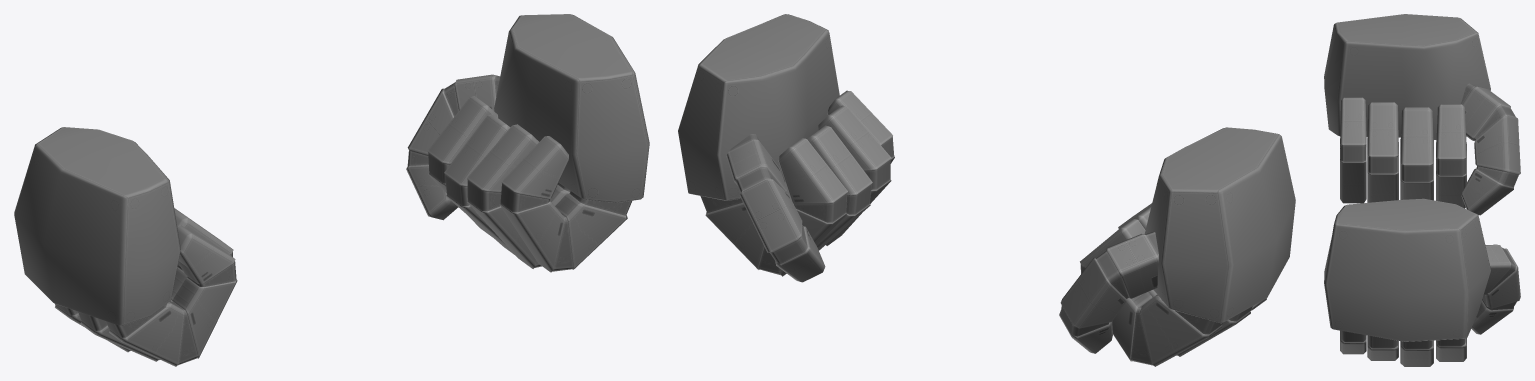
The picture shows the model from 3 angles, left to right: view 1: azimuth 30°, elevation 25°; view 2: azimuth 150°, elevation 25°; view 3: azimuth 270°, elevation 25°; orthographic projection. The views are drawn at different scales.
Visible parts, largest first — view 1: R_MD003, L_MD003; view 2: R_MD003, L_MD003; view 3: L_MD003, R_MD003.
Part boxes in pixels (x1,y1,x2,y2): R_MD003: [406, 14, 649, 272]; L_MD003: [14, 127, 237, 366]; R_MD003: [678, 14, 894, 282]; L_MD003: [1059, 127, 1295, 366]; L_MD003: [1324, 14, 1520, 215]; R_MD003: [1324, 198, 1520, 366].
Size of the model in its own units: 988 by 324 by 354.
